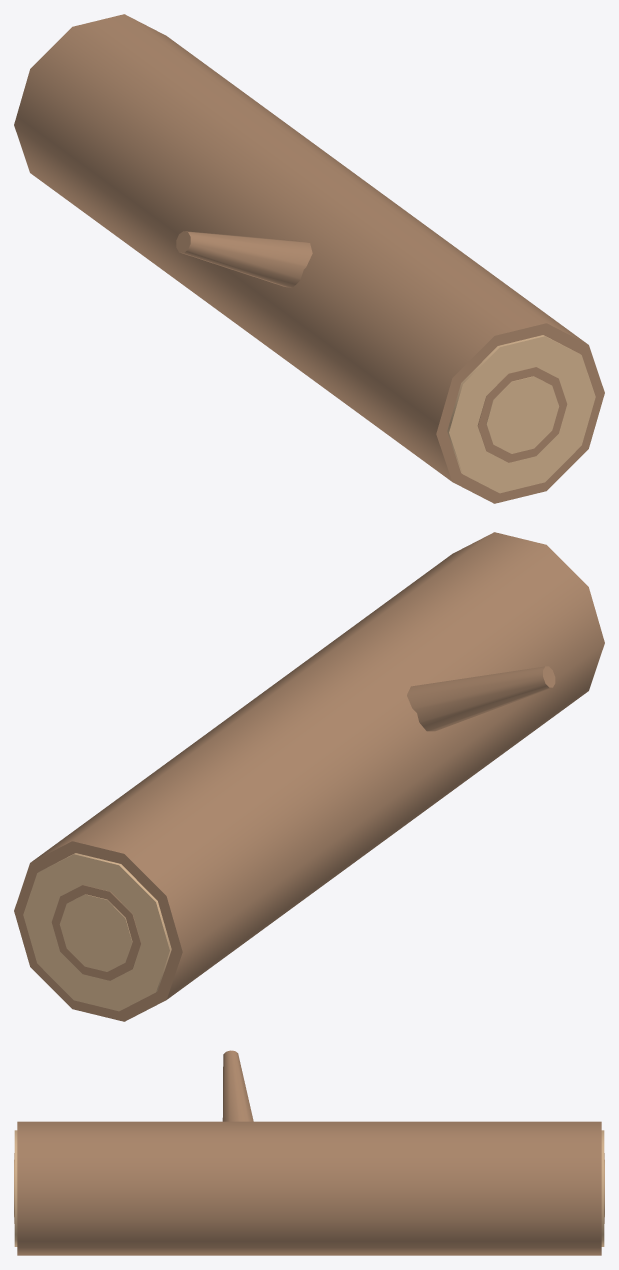
Rendered from log-fallen-clean.glb.
The picture shows the model from 3 angles, top to bottom: view 1: azimuth 30°, elevation 25°; view 2: azimuth 150°, elevation 25°; view 3: azimuth 270°, elevation 25°; orthographic projection. The views are drawn at different scales.
Parts seen in each view (by area): view 1: log-fallen-kit-clean-wood, log-fallen-kit-clean-end; view 2: log-fallen-kit-clean-wood, log-fallen-kit-clean-end; view 3: log-fallen-kit-clean-wood, log-fallen-kit-clean-end.
Part boxes in pixels (x1,y1,x2,y2): log-fallen-kit-clean-wood: (14, 14, 604, 503); log-fallen-kit-clean-end: (447, 335, 595, 493); log-fallen-kit-clean-wood: (14, 532, 604, 1021); log-fallen-kit-clean-end: (23, 853, 171, 1011); log-fallen-kit-clean-wood: (14, 1050, 604, 1255); log-fallen-kit-clean-end: (14, 1130, 604, 1246).
Size of the model in its own units: 0.9646 by 0.6671 by 2.63.
